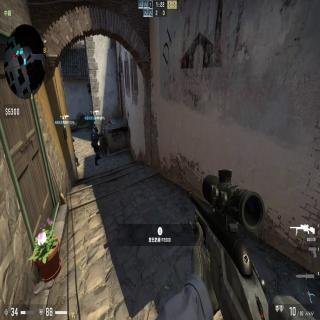CT-Body: (91, 126, 102, 168)
CT-Head: (92, 126, 98, 134)
